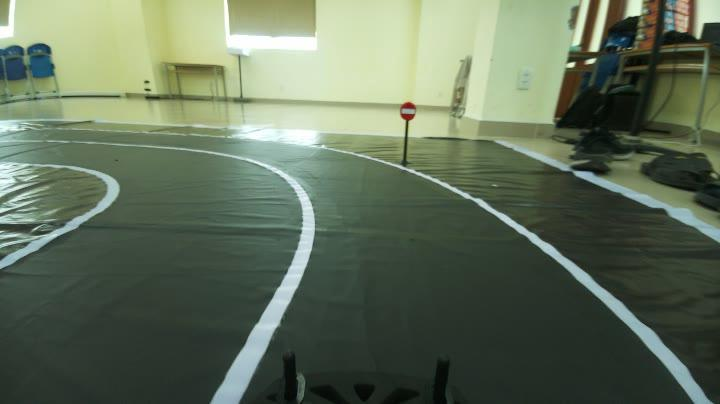no_entry: (394, 99, 424, 125)
